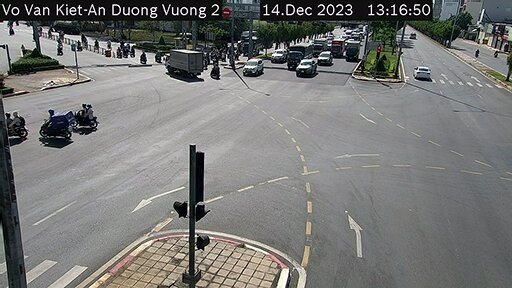car: (240, 58, 263, 78), (415, 66, 434, 81), (320, 51, 335, 68), (301, 59, 317, 73), (273, 47, 288, 61)
motorbike: (37, 109, 71, 145), (4, 109, 36, 136), (68, 103, 95, 135)
truck: (162, 51, 203, 82), (288, 41, 309, 72), (331, 38, 345, 60), (348, 40, 363, 58), (314, 36, 328, 54)
